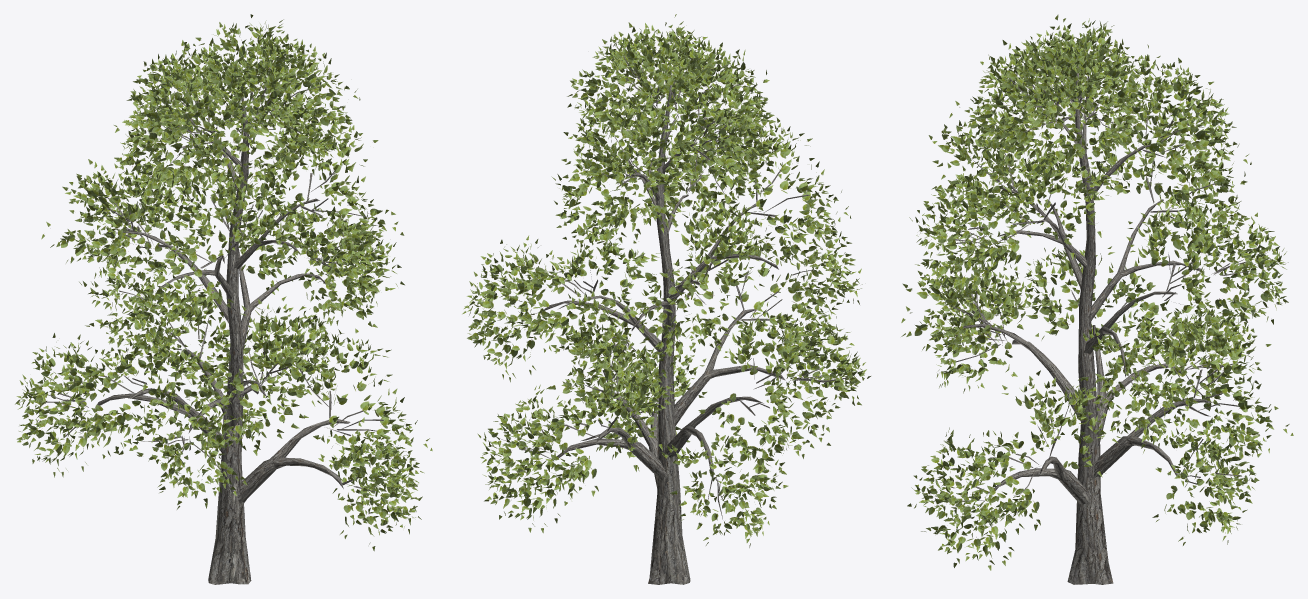
The model's file is hp_tree.glb.
3 views of the same model, side by side, from view 1: azimuth 30°, elevation 25°; view 2: azimuth 150°, elevation 25°; view 3: azimuth 270°, elevation 25° (orthographic). The views are drawn at different scales.
Parts seen in each view (by area): view 1: SM_HP_Tree; view 2: SM_HP_Tree; view 3: SM_HP_Tree.
Boxes of the visible parts, x1,y1,x2,y2 form: SM_HP_Tree: [15, 14, 432, 584]; SM_HP_Tree: [462, 14, 870, 584]; SM_HP_Tree: [901, 14, 1293, 584].
Bounding box in the file's own units: 18.12 × 27.46 × 17.25.
2 materials, 2 textured.
